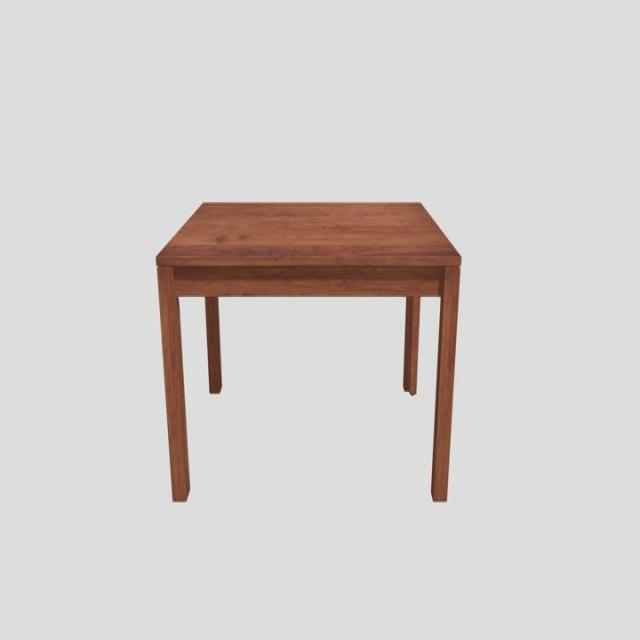table: (157, 204, 460, 505)
